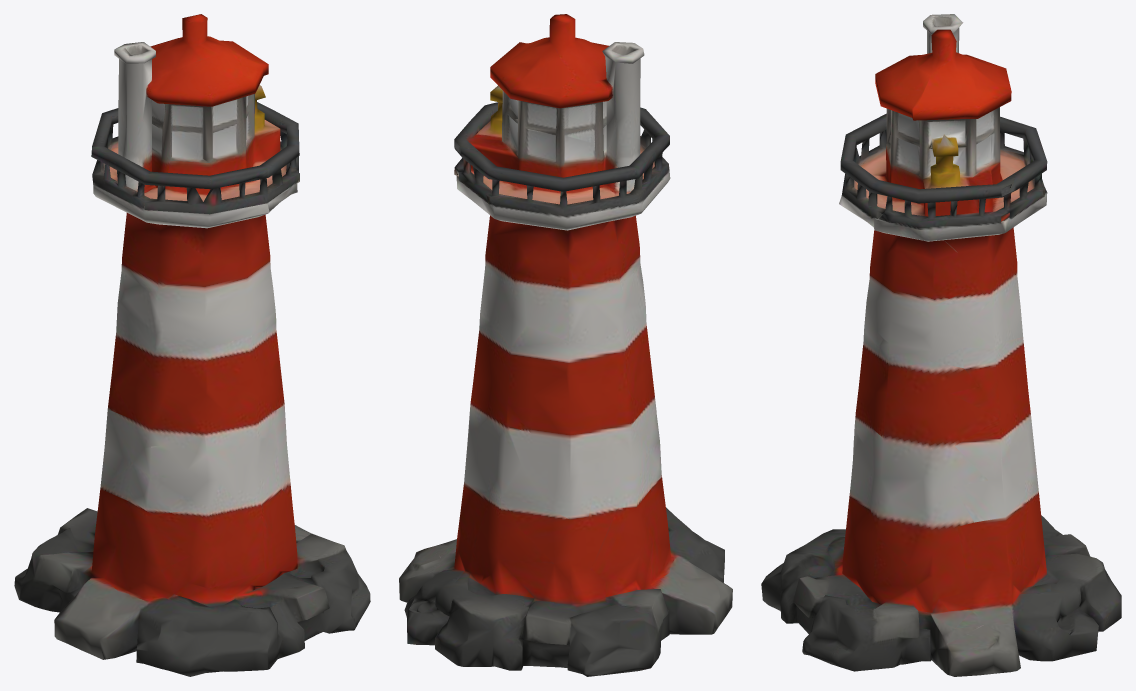
Rendered from lighthouse.glb.
3 renders of one model, left to right at view 1: azimuth 30°, elevation 25°; view 2: azimuth 150°, elevation 25°; view 3: azimuth 270°, elevation 25°, orthographic.
Visible parts, largest first — view 1: tripo_node_2e013a3e-7493-4ab1-893b-fbb58a0951dc; view 2: tripo_node_2e013a3e-7493-4ab1-893b-fbb58a0951dc; view 3: tripo_node_2e013a3e-7493-4ab1-893b-fbb58a0951dc.
Part boxes in pixels (box(x1,y1,x2,y2)): tripo_node_2e013a3e-7493-4ab1-893b-fbb58a0951dc: box(14, 14, 370, 676); tripo_node_2e013a3e-7493-4ab1-893b-fbb58a0951dc: box(399, 14, 732, 676); tripo_node_2e013a3e-7493-4ab1-893b-fbb58a0951dc: box(761, 14, 1121, 676).
Bounding box in the file's own units: 0.512 × 1 × 0.5615.
Materials: 1 (1 with a texture image).
